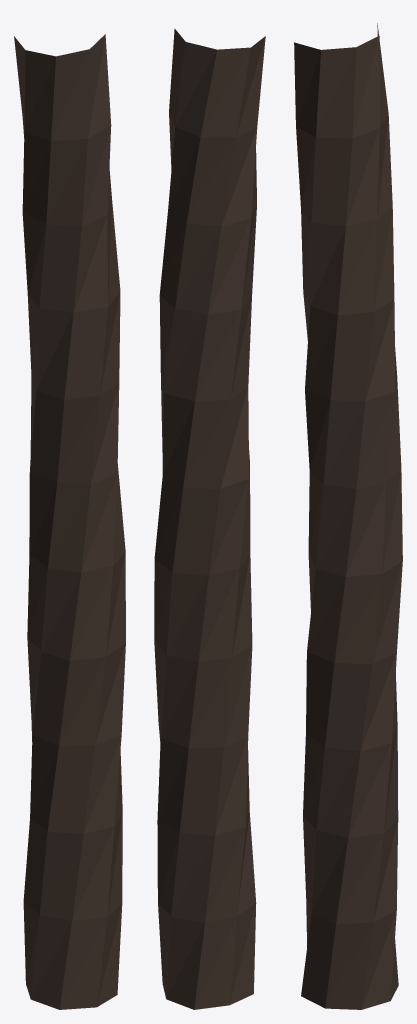
The model's file is wood_log.glb.
3 views of the same model, side by side, from view 1: azimuth 30°, elevation 25°; view 2: azimuth 210°, elevation 25°; view 3: azimuth 330°, elevation 25° (orthographic).
Visible parts, largest first — view 1: tree; view 2: tree; view 3: tree.
Boxes of the visible parts, x1=… form: tree: x1=14, y1=34, x2=125, y2=1009; tree: x1=154, y1=28, x2=265, y2=1009; tree: x1=294, y1=23, x2=402, y2=1009.
Bounding box in the file's own units: 0.6403 × 6.11 × 0.5606.
